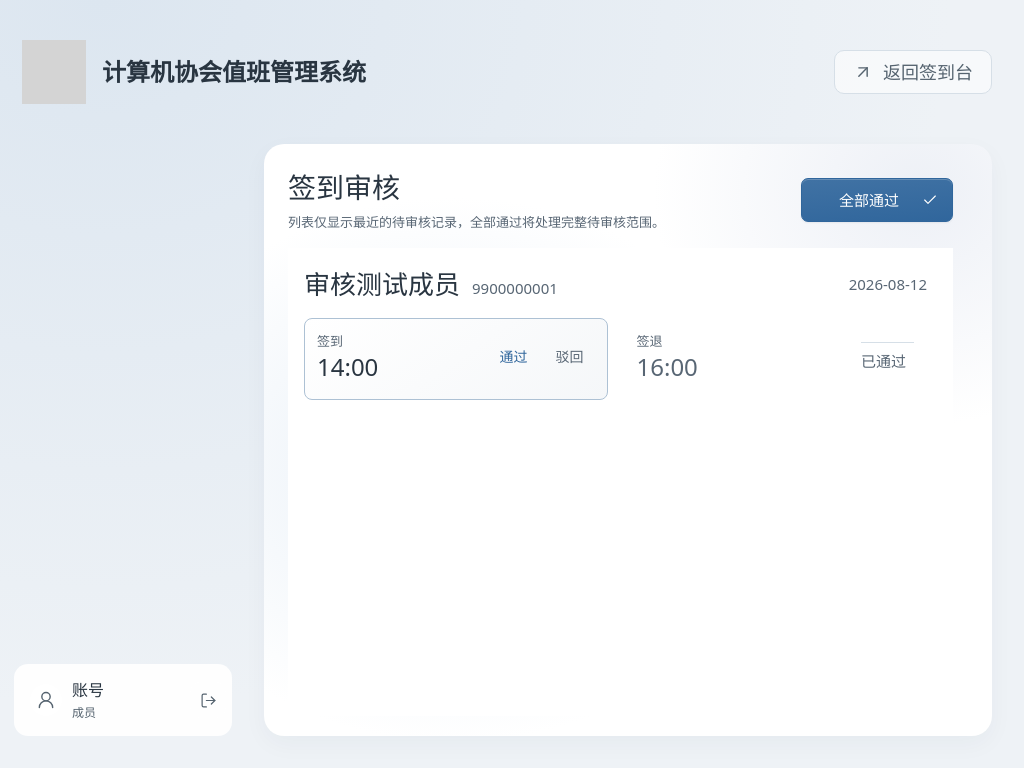
Scenario: ReviewsPage individual review and retained workspace behavior › confirms and approves the complete server queue from the page header
Click the button with class "review-approve-all" at coordinates (877, 200), box [801,178,953,222]
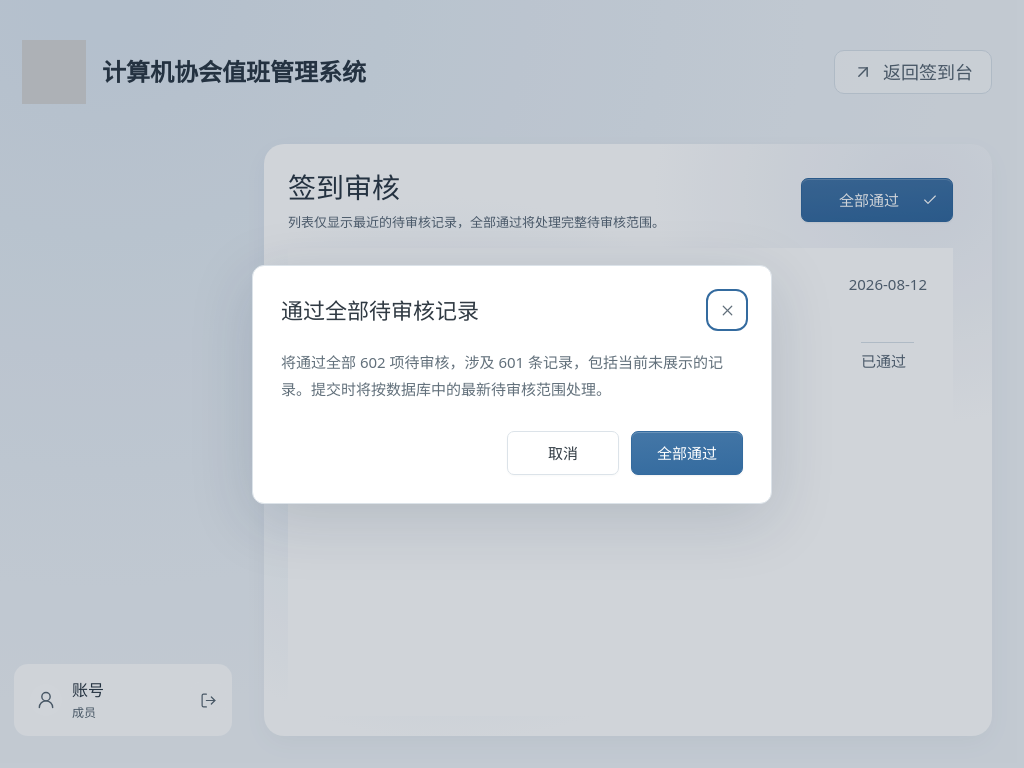
Expected: the text with class "confirm-copy" shows "全部 602 项待审核", [281,352,723,398]
Expected: the text with class "confirm-copy" shows "601 条记录", [281,352,723,398]
Expected: the text with class "confirm-copy" shows "包括当前未展示的记录", [281,352,723,398]
Click the button "全部通过" at coordinates (687, 452), box [631,430,743,474]
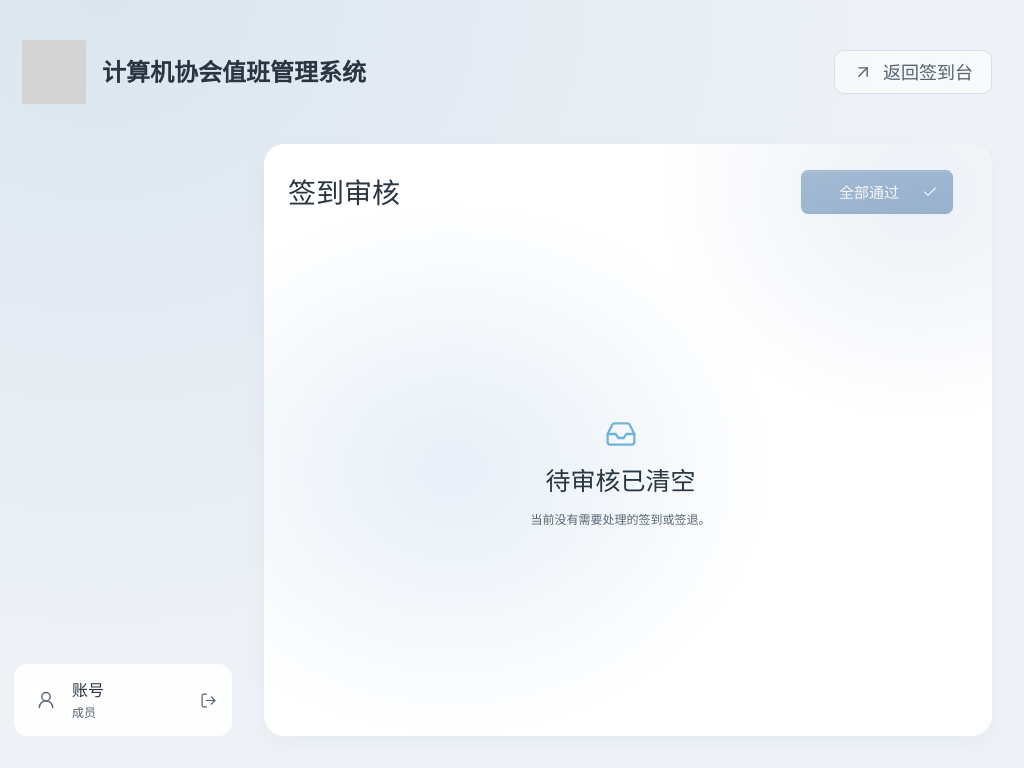
Expected: the button with class "review-approve-all" is disabled, [801,170,953,214]
Expected: the text "待审核已清空" is shown, [546,462,696,498]
